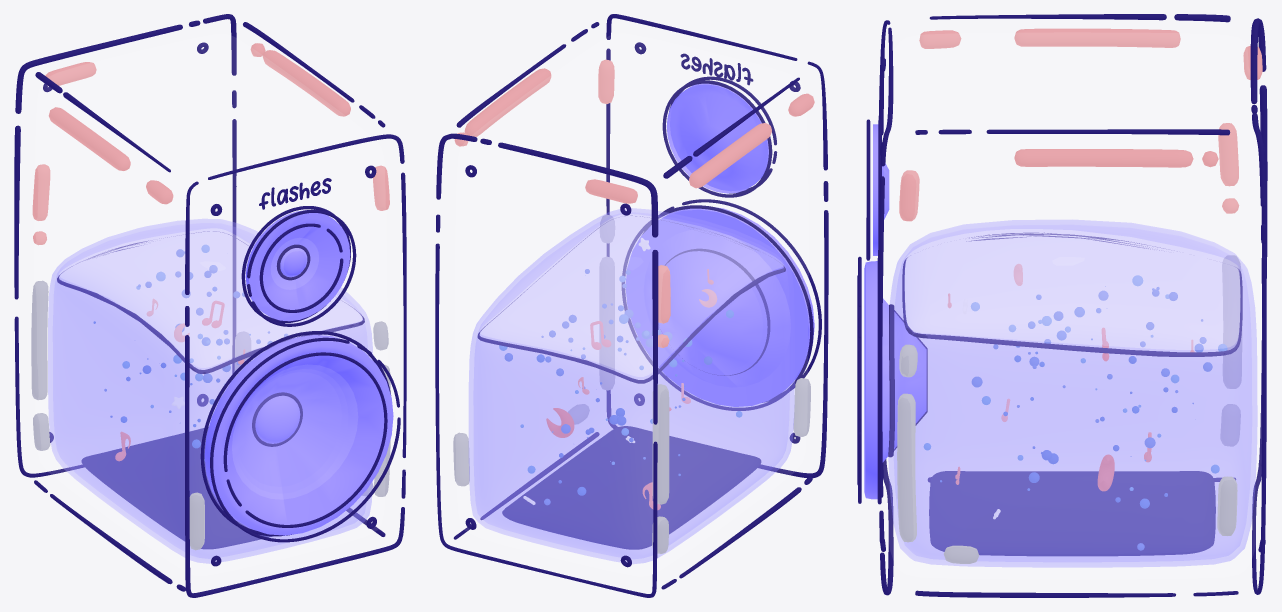
The model's file is speaker-transformed.glb.
3 renders of one model, left to right at view 1: azimuth 30°, elevation 25°; view 2: azimuth 150°, elevation 25°; view 3: azimuth 270°, elevation 25°, orthographic. The views are drawn at different scales.
Visible parts, largest first — view 1: WaveAnimated, Circle, Cube.001, Cube.005, Cube.006, Circle.001, Cube.008, Cube.007, Circle.003, Circle.002, Circle.009, Circle.008 (+5 smaller); view 2: WaveAnimated, Circle, Cube.001, Cube.006, Cube.005, Circle.001, Cube.007, Cube.008, Circle.003, bubles, Outline, Circle.002 (+3 smaller); view 3: WaveAnimated, Cube.001, Cube.006, Cube.005, Cube.008, Cube.007, Circle, bubles, Outline, Circle.001, Cube.003, Circle.002 (+2 smaller).
Boxes of the visible parts, x1,y1,x2,y2 form: WaveAnimated: [48, 219, 372, 563]; Circle: [204, 335, 393, 535]; Cube.001: [59, 229, 361, 367]; Cube.005: [14, 14, 406, 597]; Cube.006: [81, 427, 272, 549]; Circle.001: [245, 210, 350, 321]; Cube.008: [32, 43, 389, 245]; Cube.007: [31, 280, 390, 550]; Circle.003: [200, 206, 391, 536]; Circle.002: [210, 337, 400, 542]; Circle.009: [247, 209, 356, 326]; Circle.008: [223, 352, 387, 527]; WaveAnimated: [469, 208, 794, 563]; Circle: [626, 207, 814, 406]; Cube.001: [480, 214, 783, 376]; Cube.006: [502, 426, 761, 549]; Cube.005: [435, 14, 828, 597]; Circle.001: [666, 83, 768, 193]; Cube.007: [453, 214, 810, 553]; Cube.008: [454, 59, 814, 347]; Circle.003: [622, 80, 813, 410]; bubles: [499, 269, 742, 505]; Outline: [477, 222, 785, 383]; Circle.002: [642, 199, 821, 402]; WaveAnimated: [888, 220, 1257, 567]; Cube.001: [905, 229, 1239, 349]; Cube.006: [929, 471, 1215, 556]; Cube.005: [878, 14, 1267, 597]; Cube.008: [899, 28, 1262, 221]; Cube.007: [897, 255, 1242, 563]; Circle: [864, 261, 926, 499]; bubles: [923, 275, 1227, 550]; Outline: [902, 233, 1242, 356]; Circle.001: [873, 124, 889, 255]; Cube.003: [888, 304, 894, 457]; Circle.002: [858, 256, 861, 503].
Bounding box in the file's own units: 1.2 × 2.05 × 1.61.
